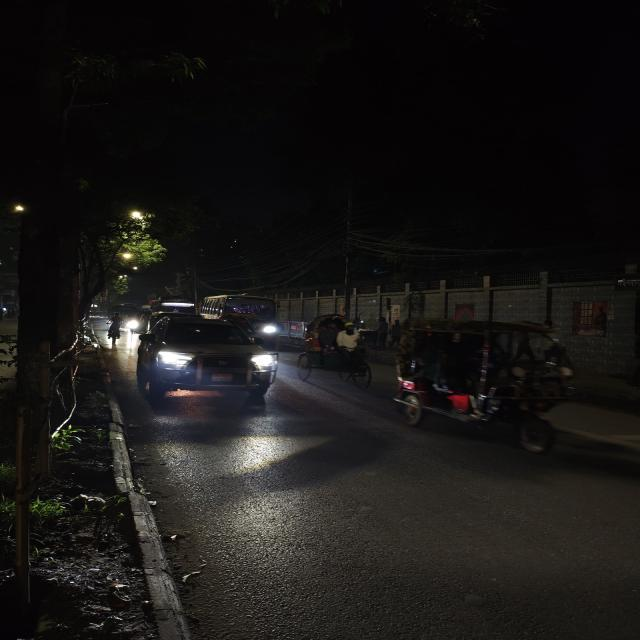bus: (222, 296, 281, 336)
car: (133, 312, 277, 410)
pedestrian: (104, 312, 126, 344)
rickshaw: (386, 315, 593, 463), (295, 316, 378, 390)
